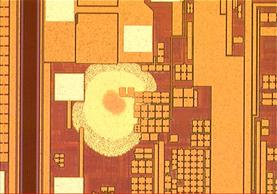BLOCK ETCH: (66, 53, 162, 161)
